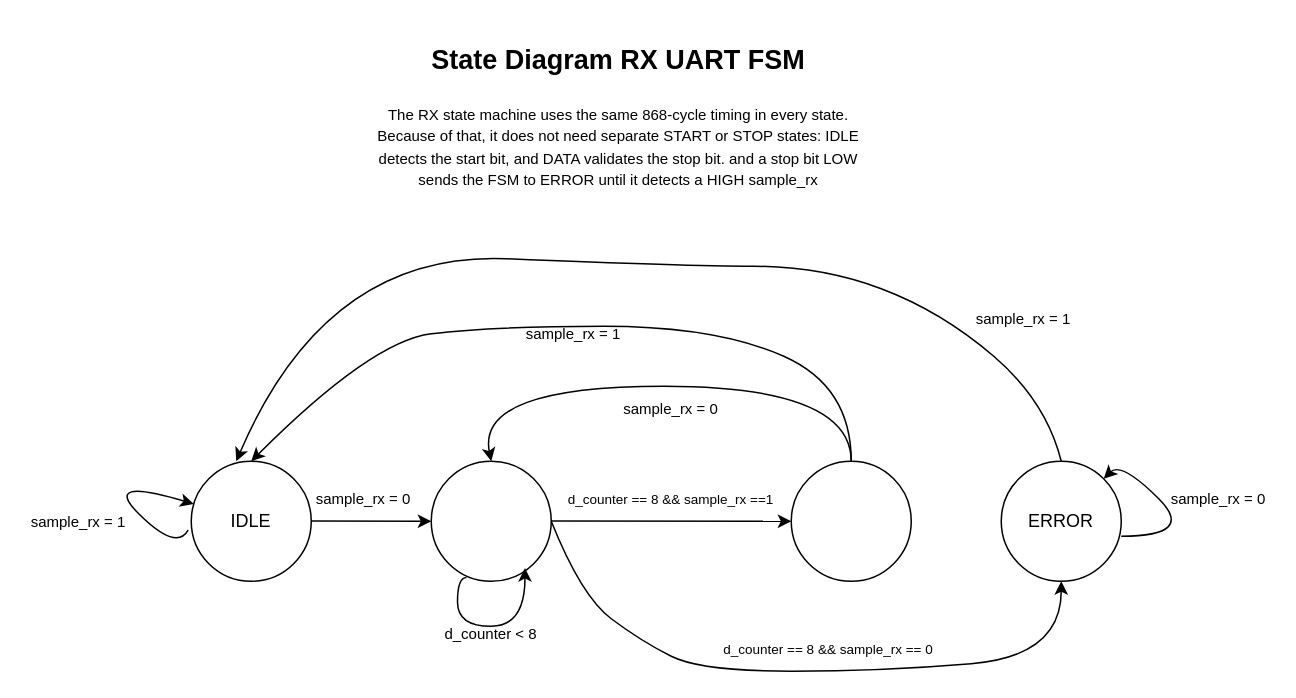
Some shapes in this 1296 by 698 pixel diagram are drawn without their labels. The centre of each missing label's shape, as x and y in pixels:
DATA: [490,520]
DONE done = 1 rx_byte = store_rx: [850,520]
